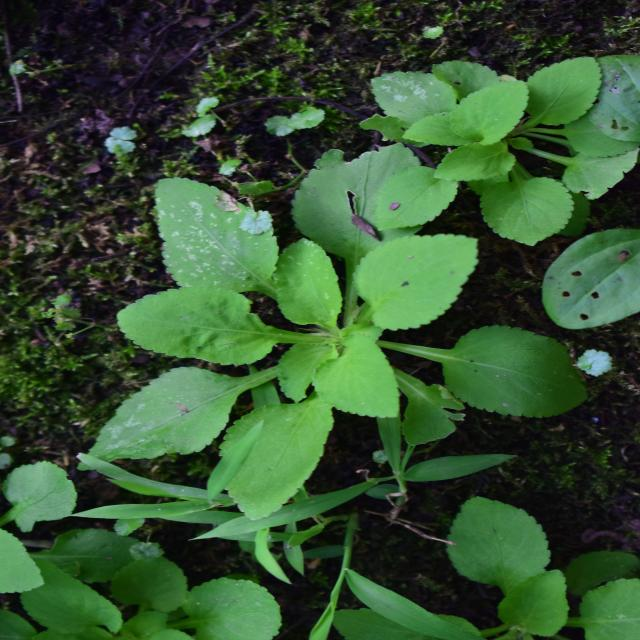Viola: (171, 111, 494, 485), (396, 388, 591, 605)
